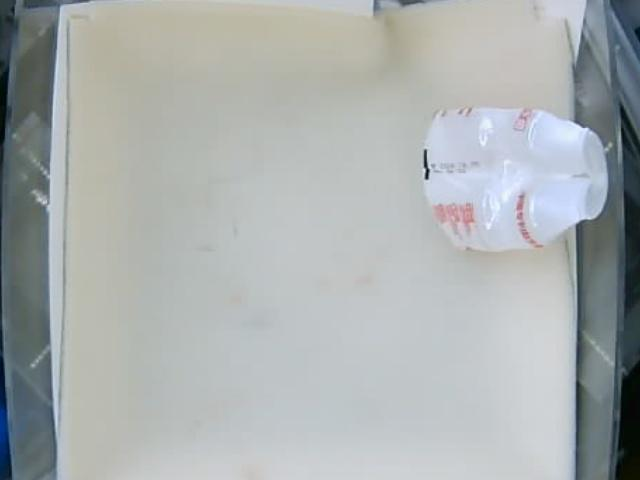Bottle: (423, 108, 610, 254)
